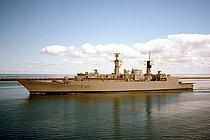MIL_Ship: (15, 51, 195, 95)
